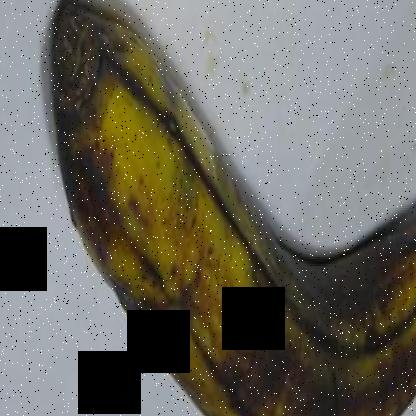overripe: (43, 17, 415, 415)
